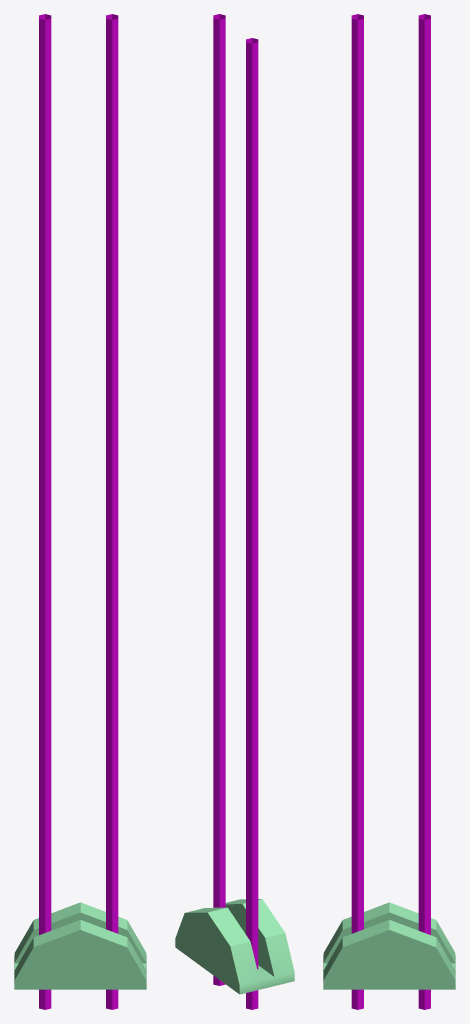
File: SM_Gain.fbx
3 views of the same model, side by side, from view 1: azimuth 90°, elevation 25°; view 2: azimuth 210°, elevation 25°; view 3: azimuth 270°, elevation 25° (orthographic). The views are drawn at different scales.
Visible parts, largest first — view 1: pCylinder30, pCylinder29, pasted__pCylinder11; view 2: pCylinder30, pCylinder29, pasted__pCylinder11; view 3: pCylinder30, pCylinder29, pasted__pCylinder11.
Boxes of the visible parts, x1,y1,x2,y2 form: pCylinder30: (39,14,51,1009); pCylinder29: (106,14,118,1009); pasted__pCylinder11: (14,902,146,989); pCylinder30: (246,38,258,1009); pCylinder29: (213,14,225,985); pasted__pCylinder11: (175,899,294,994); pCylinder30: (418,14,430,1009); pCylinder29: (351,14,363,1009); pasted__pCylinder11: (323,902,455,989).
Bounding box in the file's own units: 0.3927 × 6.59 × 0.7981.
